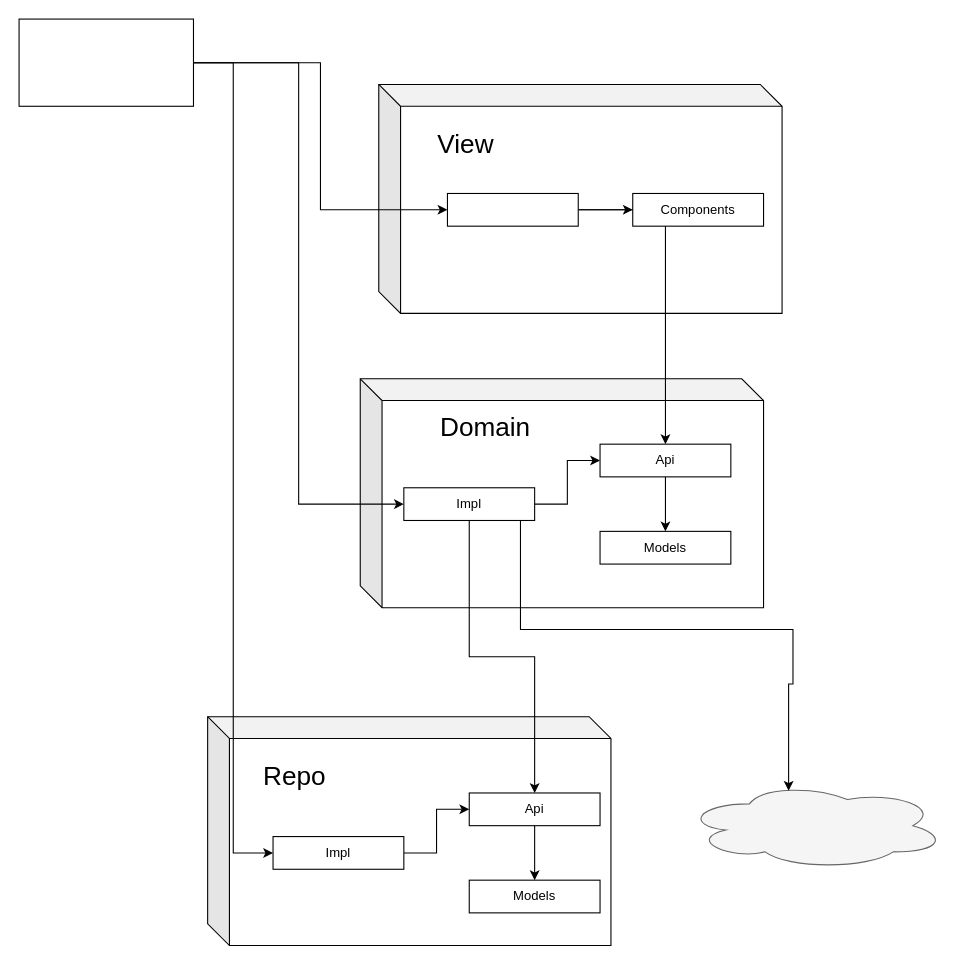
Some shapes in this 965 by 965 pixel diagram are drawn without their labels. Here are the shapes that lost their labels. From the top down, the box of each, then its label:
(18, 18, 193, 106): App
(446, 192, 578, 226): Service
(683, 781, 946, 869): USC-Client
